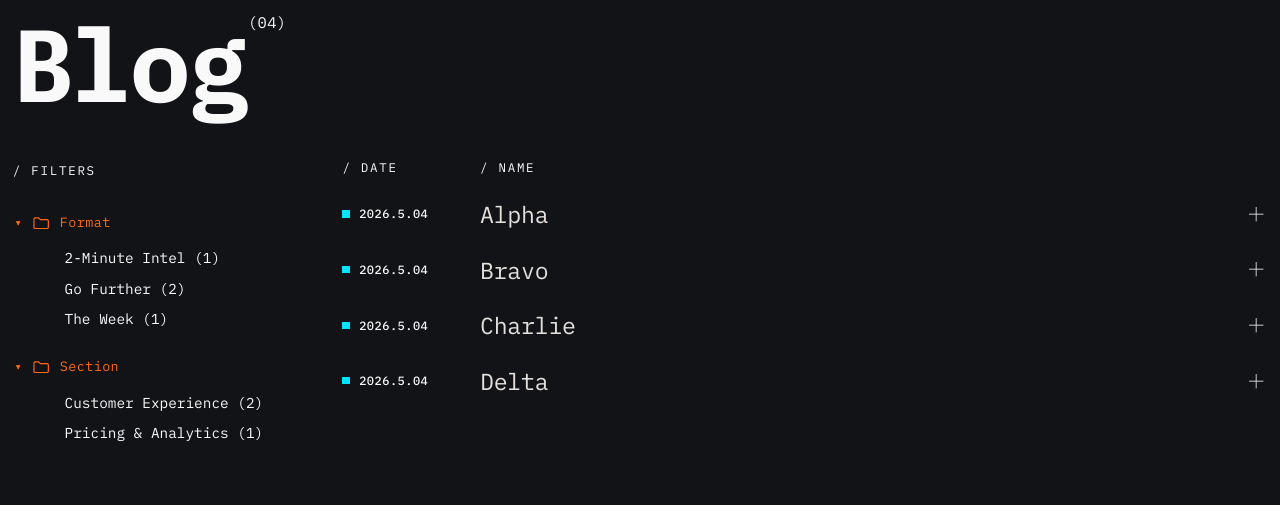
Test: NewsIndex › multi-selects within a group and clears all filters
Click the button "2-Minute Intel (1)".
click(167, 258)  # box [39,243,295,273]
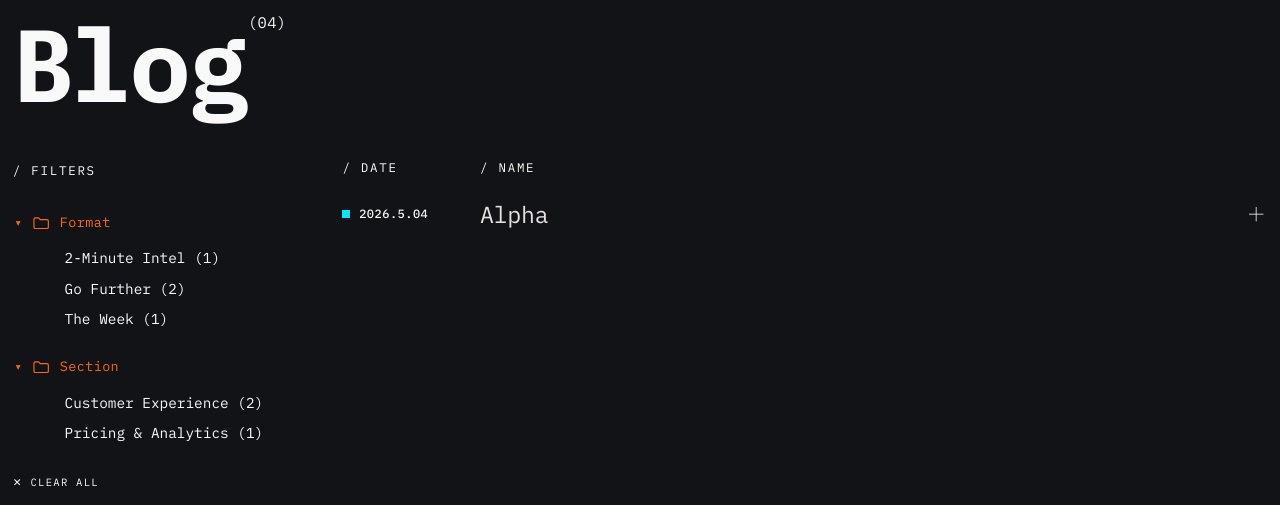
Click the button "The Week (1)".
click(167, 319)  # box [39,304,295,334]
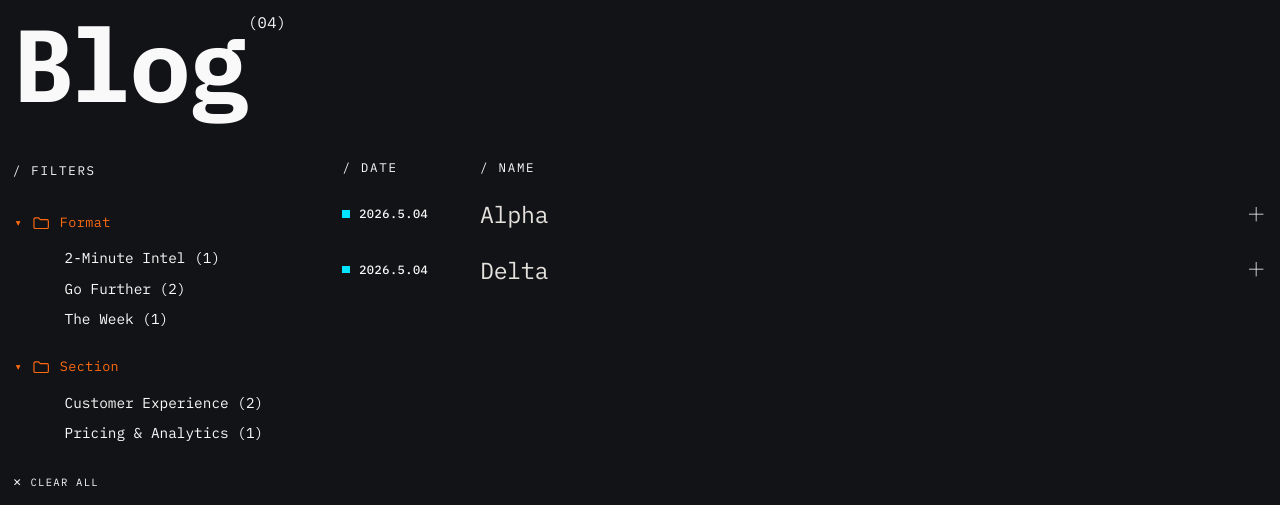
Expected: the text "Alpha" is shown, [480,199,548,229]
Expected: the text "Delta" is shown, [480,255,548,285]
Click the button "✕ Clear all".
click(56, 480)  # box [13,471,99,489]
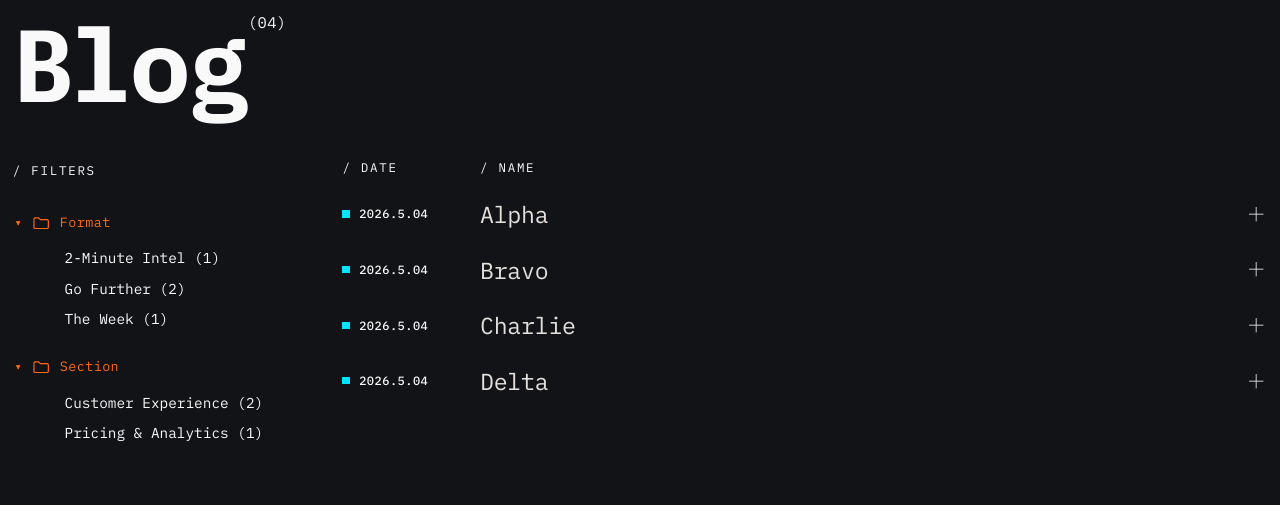
Expected: the text "Delta" is shown, [480,366,548,396]
Expected: the text "Bravo" is shown, [480,255,548,285]
Expected: the text "Charlie" is shown, [480,310,576,340]
